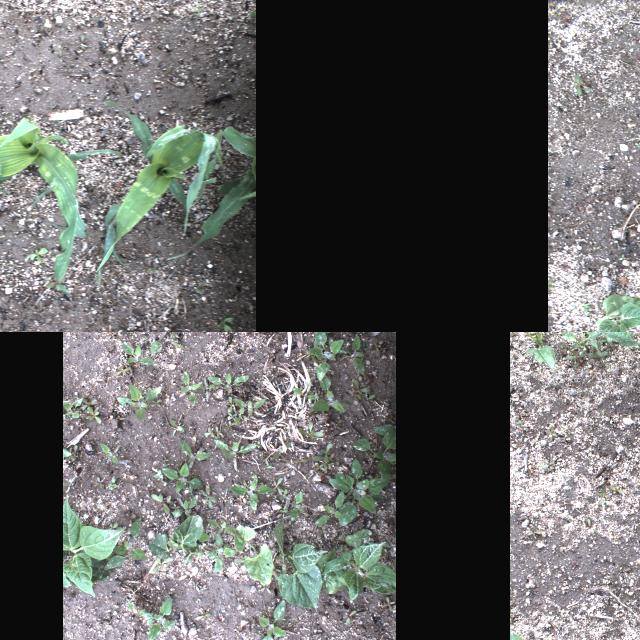crop: (0, 114, 126, 300), (95, 110, 217, 286), (167, 126, 256, 260), (62, 494, 126, 596), (314, 528, 396, 602), (272, 518, 328, 608), (147, 513, 203, 567), (232, 522, 274, 584), (509, 332, 559, 370), (594, 292, 640, 332), (551, 332, 604, 351)
weed: (328, 458, 388, 526), (351, 403, 396, 481), (102, 516, 148, 568), (312, 369, 358, 411), (116, 382, 162, 420), (308, 332, 344, 379), (228, 472, 272, 510), (142, 594, 176, 640), (334, 333, 368, 373), (258, 598, 288, 640), (205, 530, 235, 572), (214, 439, 256, 469), (161, 462, 201, 492), (315, 490, 345, 524), (178, 438, 212, 468), (207, 371, 249, 391), (122, 339, 156, 363), (179, 369, 199, 407), (148, 332, 183, 353), (290, 378, 320, 399), (172, 494, 198, 518), (587, 338, 607, 367), (233, 398, 265, 416), (198, 374, 216, 402), (206, 518, 236, 534), (298, 422, 322, 442), (348, 378, 370, 399), (289, 488, 303, 520), (198, 484, 216, 508), (150, 492, 170, 512), (62, 398, 82, 418), (28, 246, 48, 264), (572, 76, 590, 96), (99, 443, 117, 463), (565, 349, 585, 366), (272, 440, 290, 458), (150, 558, 172, 572), (217, 315, 235, 332), (168, 418, 184, 437), (86, 406, 102, 424), (125, 600, 145, 614), (78, 395, 98, 409), (369, 336, 383, 356), (234, 405, 248, 425), (268, 477, 282, 495), (381, 596, 395, 612), (63, 444, 77, 460), (313, 453, 335, 463), (62, 476, 76, 490), (154, 468, 166, 484), (121, 512, 137, 524), (114, 364, 130, 376), (322, 443, 332, 462), (304, 349, 318, 361), (345, 610, 357, 622), (102, 344, 114, 356), (260, 579, 270, 593), (271, 565, 281, 579), (278, 504, 288, 518), (312, 461, 326, 471), (278, 489, 290, 499), (318, 469, 330, 479), (140, 381, 152, 391), (292, 457, 306, 465), (196, 532, 210, 540), (104, 522, 118, 530), (202, 428, 214, 437), (318, 525, 328, 535), (170, 502, 180, 512), (224, 420, 234, 430), (194, 613, 210, 619), (196, 584, 208, 592), (234, 554, 246, 562), (108, 477, 116, 489), (150, 398, 160, 407), (227, 412, 236, 422), (94, 477, 102, 488), (226, 396, 232, 410), (191, 580, 199, 590), (265, 460, 271, 472), (214, 425, 220, 437), (363, 395, 375, 401), (107, 332, 117, 339), (272, 494, 278, 504), (335, 418, 341, 428), (309, 406, 315, 416), (208, 419, 216, 426), (328, 462, 336, 468), (380, 400, 388, 406)
